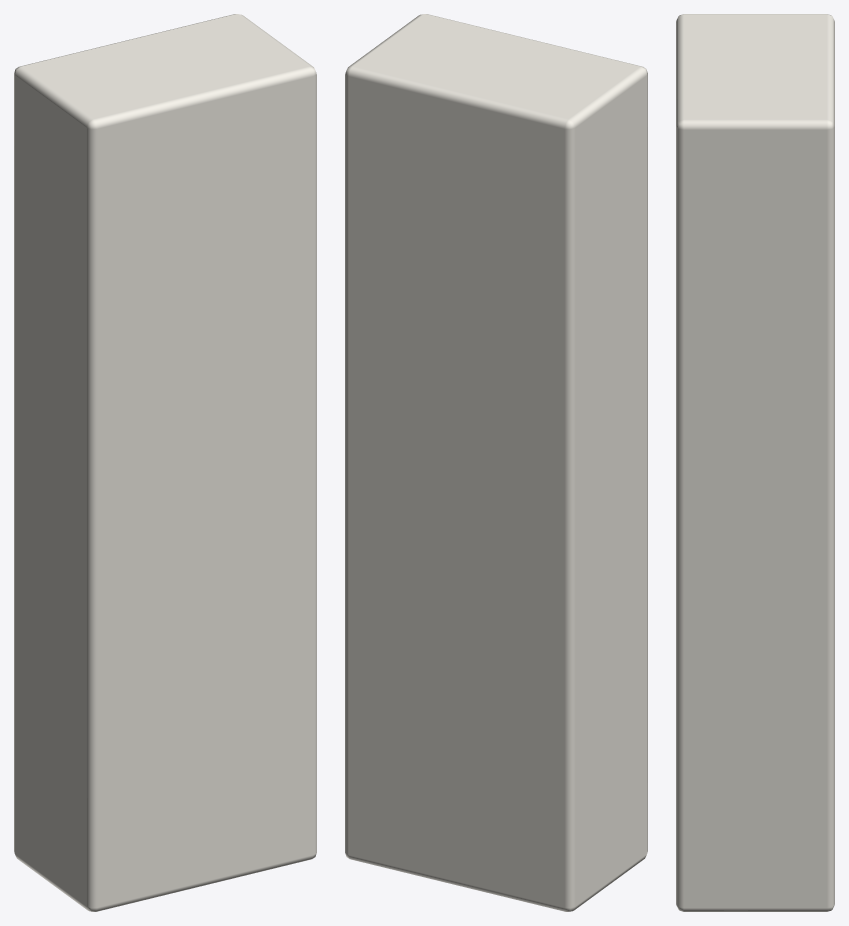
The model's file is wall-straight.glb.
3 views of the same model, side by side, from view 1: azimuth 30°, elevation 25°; view 2: azimuth 150°, elevation 25°; view 3: azimuth 270°, elevation 25° (orthographic).
Parts seen in each view (by area): view 1: part; view 2: part; view 3: part.
Boxes of the visible parts, box(x1,y1,x2,y2) form: part: box(14, 14, 316, 911); part: box(345, 14, 647, 911); part: box(676, 14, 834, 911).
Size of the model in its own units: 1 by 3.3 by 0.6.
Materials: 1 (1 with a texture image).
